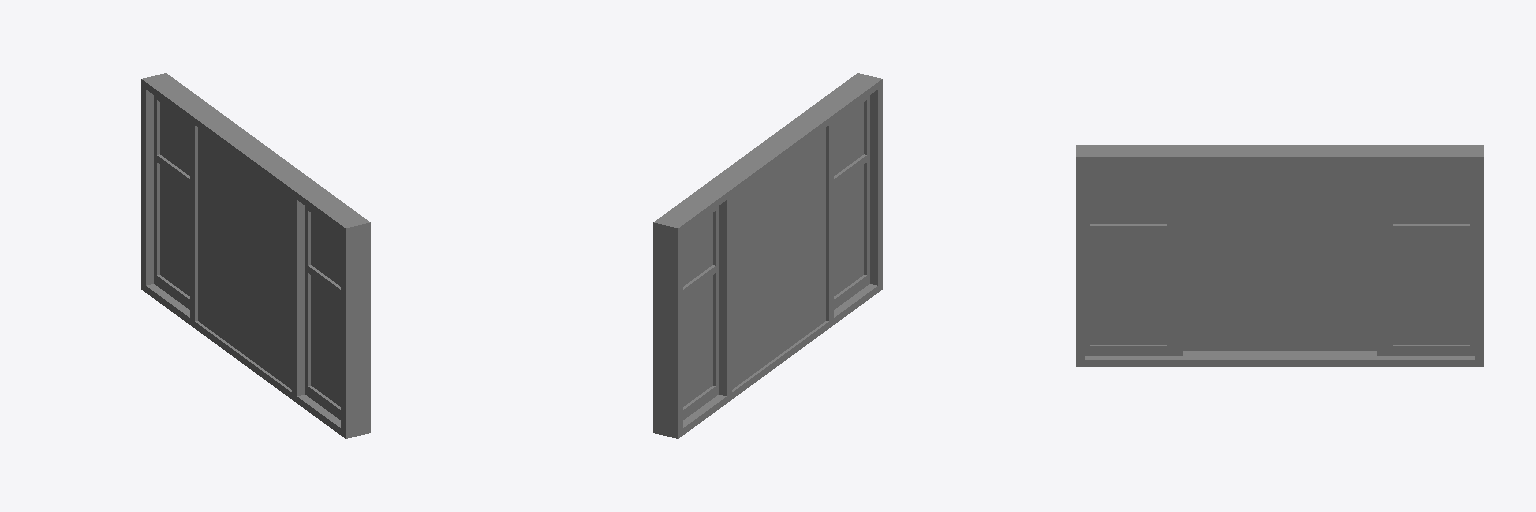
File: classroom_outside_window.obj
3 views of the same model, side by side, from view 1: azimuth 30°, elevation 25°; view 2: azimuth 150°, elevation 25°; view 3: azimuth 270°, elevation 25° (orthographic).
Parts seen in each view (by area): view 1: ??_??_??; view 2: ??_??_??; view 3: ??_??_??.
Boxes of the visible parts, x1=… form: ??_??_??: x1=141, y1=73, x2=370, y2=438; ??_??_??: x1=653, y1=73, x2=882, y2=438; ??_??_??: x1=1076, y1=145, x2=1483, y2=366.
Size of the model in its own units: 0.2341 by 1.9 by 3.34.